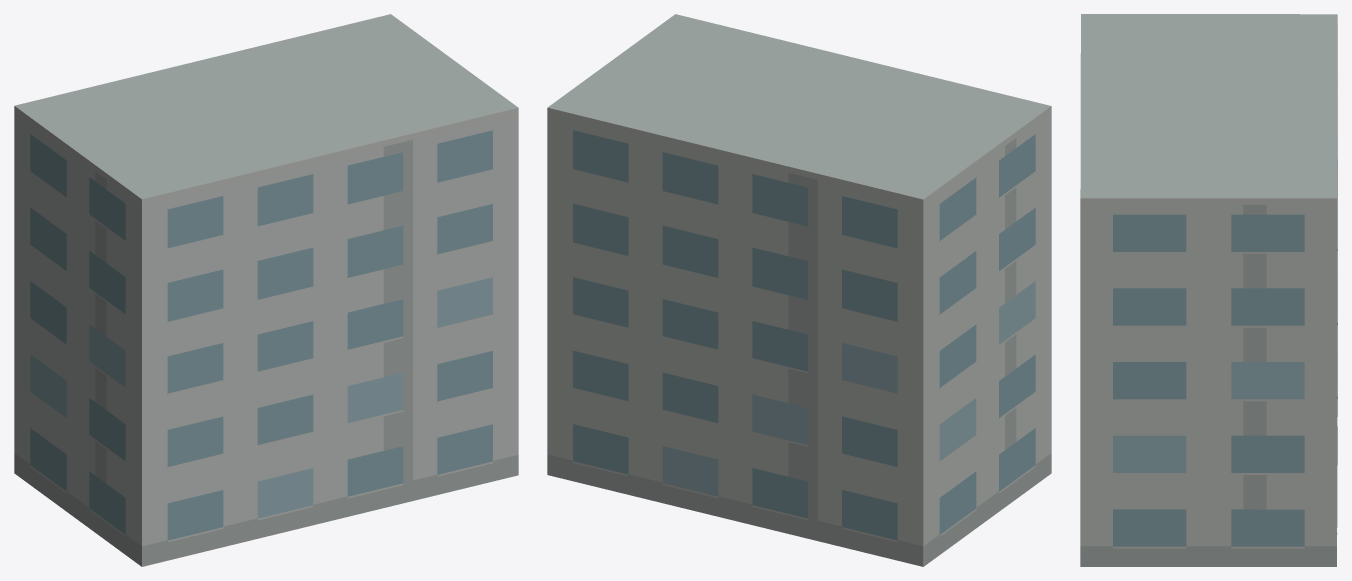
File: survey-upis-32852006.glb
3 views of the same model, side by side, from view 1: azimuth 30°, elevation 25°; view 2: azimuth 150°, elevation 25°; view 3: azimuth 270°, elevation 25° (orthographic).
Visible parts, largest first — view 1: survey-upis-32852006.tmp; view 2: survey-upis-32852006.tmp; view 3: survey-upis-32852006.tmp.
Part boxes in pixels (left/top/right/bottom): survey-upis-32852006.tmp: left=14, top=14, right=518, bottom=566; survey-upis-32852006.tmp: left=547, top=14, right=1051, bottom=566; survey-upis-32852006.tmp: left=1080, top=14, right=1337, bottom=566.
Size of the model in its own units: 15.47 by 14.4 by 9.13.
